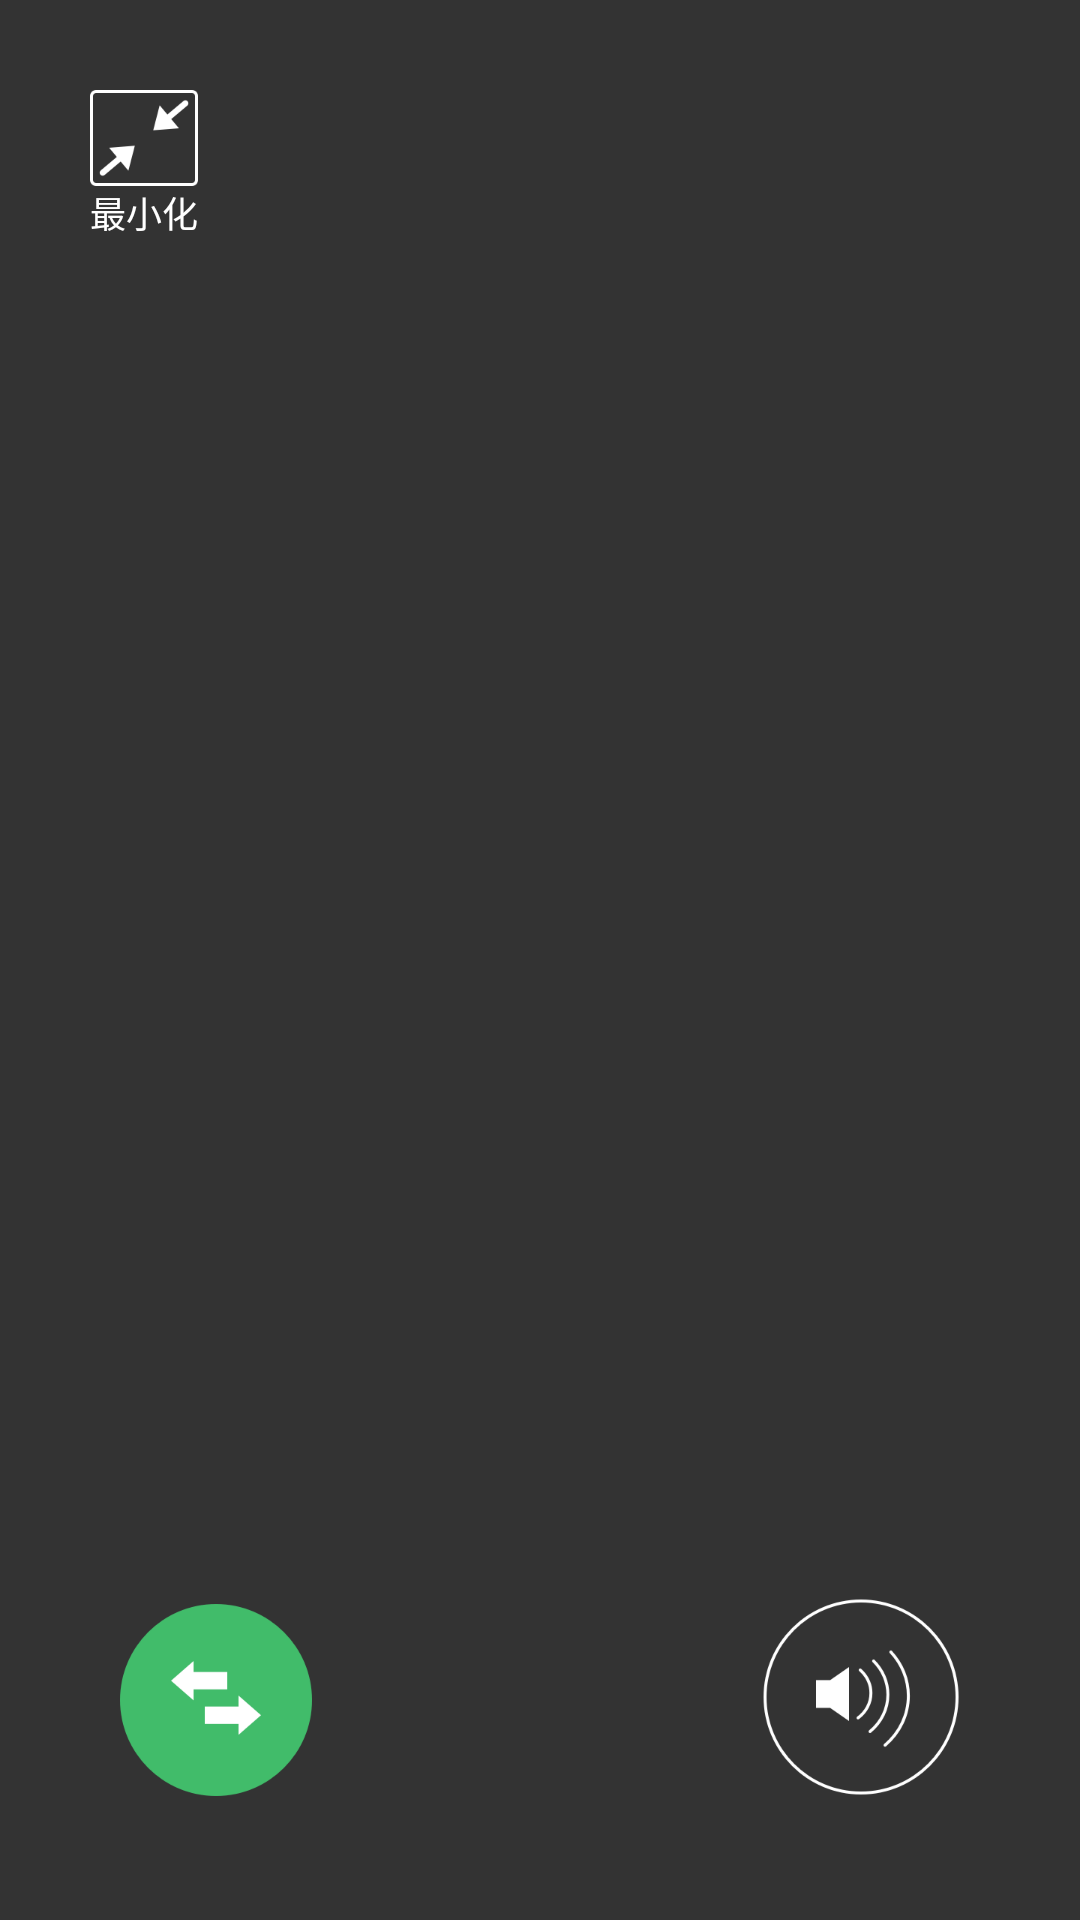

Screen size 1080*1920. Icon name, then its center in pixels as (x=x, y=y):
chatui handsfree: (x=861, y=1697)
chatui switch phone: (x=216, y=1700)
